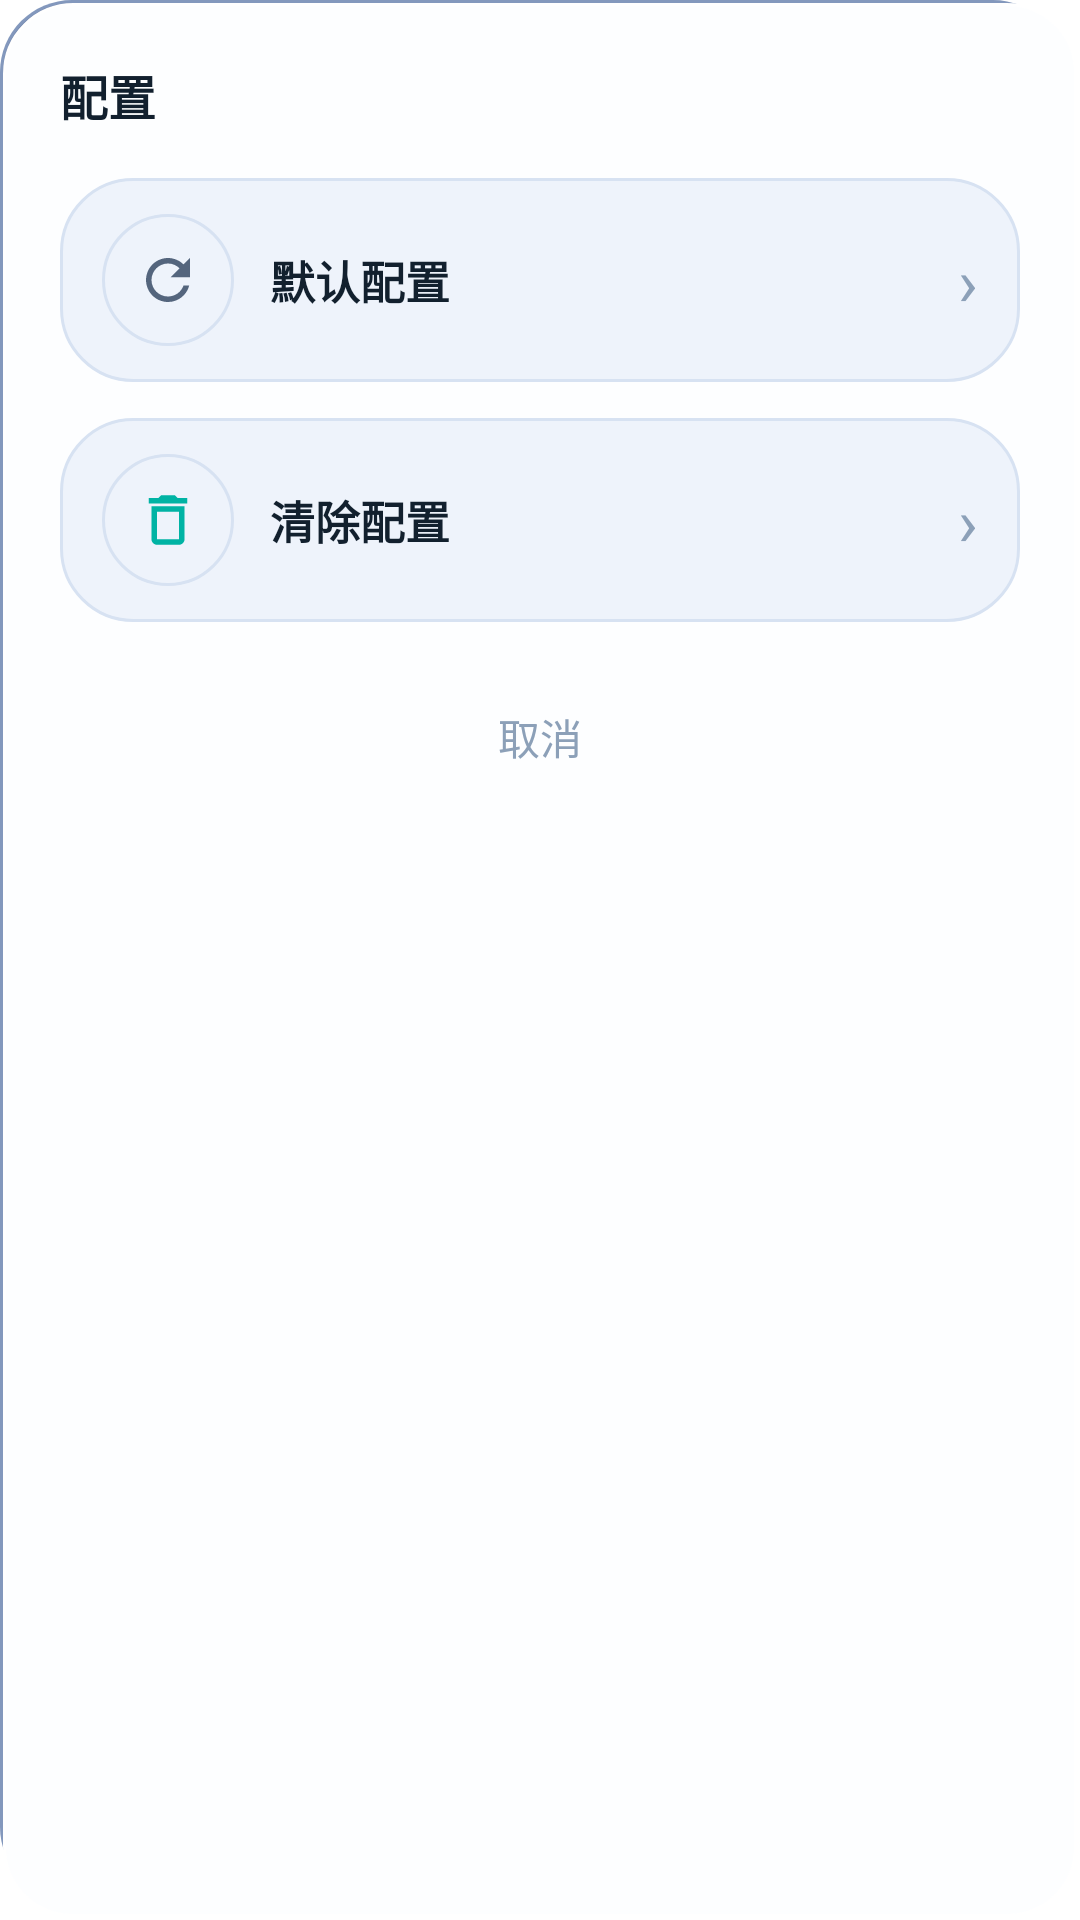

Point at icon controls on the screen. Image size 1080 × 1920, points as (x=x, y=y).
neo clean: (x=168, y=520)
neo refresh: (x=168, y=280)
